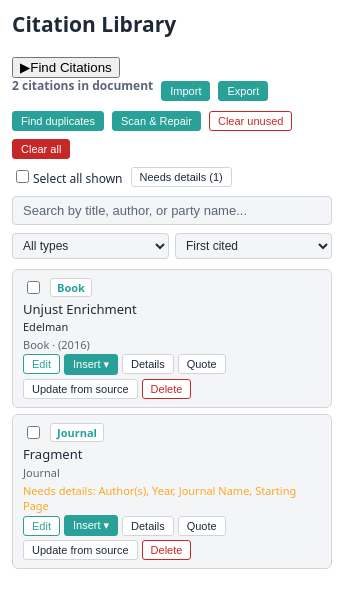
CitationLibrary interchange surface › selection: cards, select all shown, and clear
Click the checkbox named "Select Unjust Enrichment" at (34, 288), box [27, 281, 40, 294]
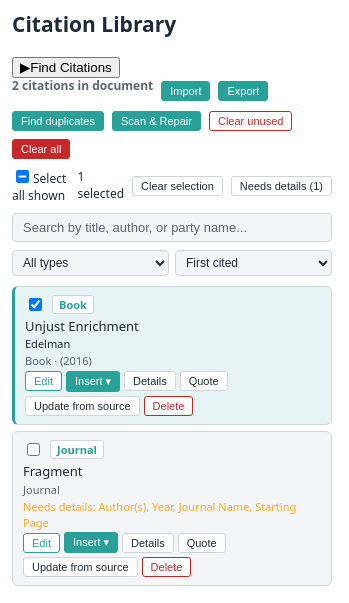
Now the text "1 selected" is shown, box [77, 169, 124, 203]
Click the checkbox named "Select all shown citations" at (22, 176), box [16, 170, 29, 183]
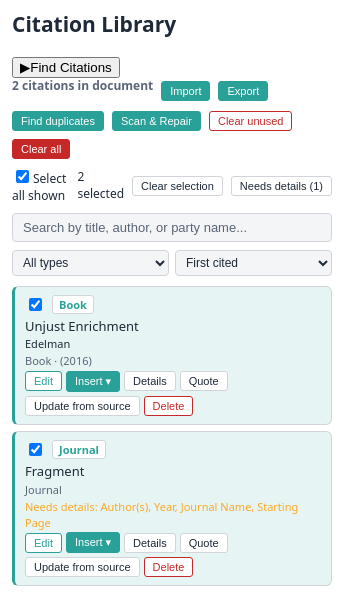
Now the text "2 selected" is shown, box [77, 169, 124, 203]
Click the button "Clear selection" at (178, 186), box [132, 176, 223, 196]
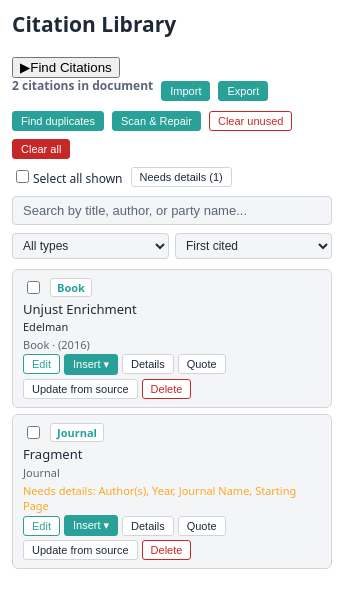
Now the text "selected" is gone
